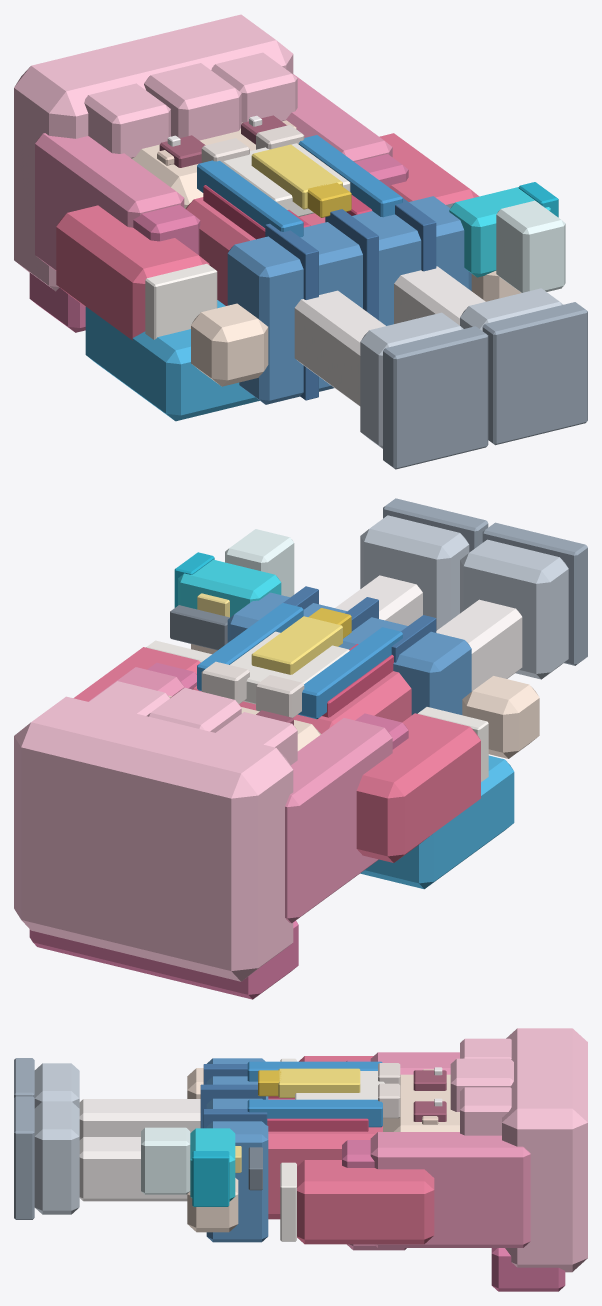
Rendered from player-image2-2_5head-new-comparison.glb.
3 views of the same model, one above another, from view 1: azimuth 30°, elevation 25°; view 2: azimuth 150°, elevation 25°; view 3: azimuth 270°, elevation 25° (orthographic). The views are drawn at different scales.
Visible parts, largest first — view 1: player__skirt-block-mesh, player__hair-cap-mesh, player__shoe-l-sole-mesh, player__shoe-r-sole-mesh, player__arm-l-sleeve-mesh, player__side-l-block-mesh, player__bag-body-mesh, player__leg-l-mesh, player__lantern-lens-mesh, player__hand-l-mesh, player__bang-center-mesh, player__bang-l-mesh (+27 smaller); view 2: player__hair-cap-mesh, player__side-l-block-mesh, player__arm-l-sleeve-mesh, player__shoe-l-upper-mesh, player__shoe-r-upper-mesh, player__skirt-block-mesh, player__bag-body-mesh, player__hair-cap-back-mesh, player__leg-l-mesh, player__hand-l-mesh, player__shoe-l-sole-mesh, player__lantern-body-mesh (+22 smaller); view 3: player__hair-cap-mesh, player__side-r-block-mesh, player__arm-r-sleeve-mesh, player__shoe-r-upper-mesh, player__skirt-block-mesh, player__leg-r-mesh, player__leg-l-mesh, player__jacket-body-mesh, player__lantern-lens-mesh, player__strap-r-mesh, player__shoe-r-sole-mesh, player__bang-r-mesh (+27 smaller).
Part boxes in pixels (box(x1,y1,x2,y2)): player__skirt-block-mesh: box(227, 196, 471, 404); player__hair-cap-mesh: box(14, 14, 293, 291); player__shoe-l-sole-mesh: box(383, 326, 488, 469); player__shoe-r-sole-mesh: box(482, 302, 587, 445); player__arm-l-sleeve-mesh: box(56, 205, 209, 340); player__side-l-block-mesh: box(35, 133, 184, 270); player__bag-body-mesh: box(85, 300, 259, 421); player__leg-l-mesh: box(294, 290, 385, 406); player__lantern-lens-mesh: box(496, 200, 565, 292); player__hand-l-mesh: box(191, 303, 268, 386); player__bang-center-mesh: box(144, 63, 241, 140); player__bang-l-mesh: box(84, 83, 170, 158); player__hair-cap-mesh: box(14, 696, 293, 981); player__side-l-block-mesh: box(285, 718, 392, 923); player__arm-l-sleeve-mesh: box(356, 713, 480, 862); player__shoe-l-upper-mesh: box(460, 539, 568, 679); player__shoe-r-upper-mesh: box(360, 515, 469, 630); player__skirt-block-mesh: box(227, 592, 471, 714); player__bag-body-mesh: box(360, 755, 514, 889); player__hair-cap-back-mesh: box(29, 920, 298, 999); player__leg-l-mesh: box(436, 599, 522, 691); player__hand-l-mesh: box(462, 676, 539, 758); player__shoe-l-sole-mesh: box(482, 522, 587, 665); player__lantern-body-mesh: box(178, 559, 281, 617); player__hair-cap-mesh: box(502, 1028, 587, 1272); player__side-r-block-mesh: box(370, 1132, 530, 1247); player__arm-r-sleeve-mesh: box(297, 1160, 434, 1244); player__shoe-r-upper-mesh: box(34, 1101, 79, 1214); player__skirt-block-mesh: box(206, 1058, 268, 1242); player__leg-r-mesh: box(79, 1137, 187, 1201); player__leg-l-mesh: box(79, 1099, 200, 1139); player__jacket-body-mesh: box(268, 1098, 382, 1219); player__lantern-lens-mesh: box(141, 1127, 190, 1194); player__strap-r-mesh: box(247, 1099, 382, 1127); player__shoe-r-sole-mesh: box(14, 1096, 34, 1219); player__bang-r-mesh: box(460, 1087, 511, 1135).
Bounding box in the file's own units: 1.57 × 0.98 × 2.8.
